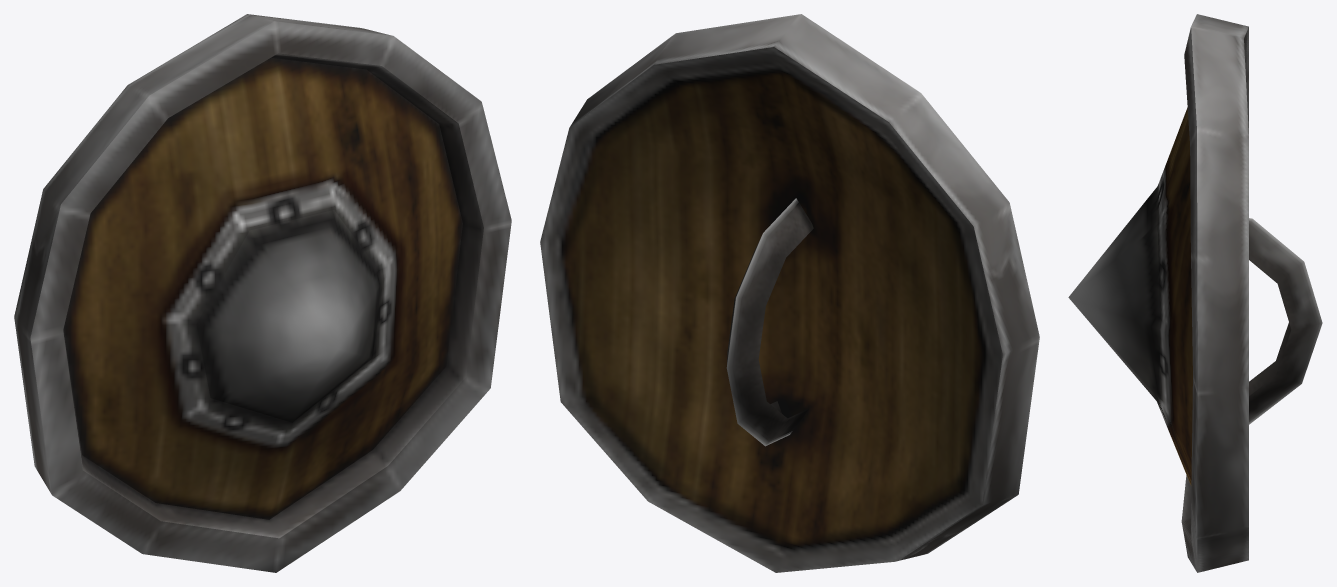
The model's file is Shield_lvl1.fbx.
The picture shows the model from 3 angles, left to right: view 1: azimuth 30°, elevation 25°; view 2: azimuth 150°, elevation 25°; view 3: azimuth 270°, elevation 25°; orthographic projection. The views are drawn at different scales.
Visible parts, largest first — view 1: Shield_lvl1; view 2: Shield_lvl1; view 3: Shield_lvl1.
Boxes of the visible parts, bbox=[...] form: Shield_lvl1: bbox=[14, 14, 511, 572]; Shield_lvl1: bbox=[540, 14, 1039, 572]; Shield_lvl1: bbox=[1068, 14, 1322, 572].
Size of the model in its own units: 45.99 by 50.25 by 21.81.
